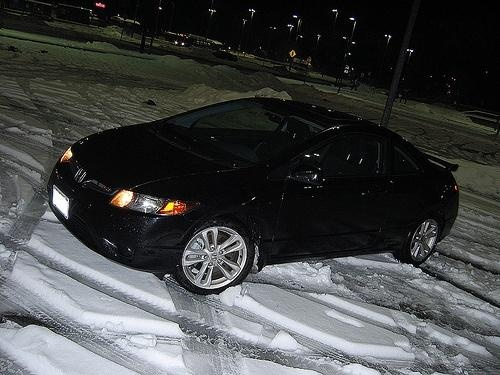car: (49, 94, 461, 296)
